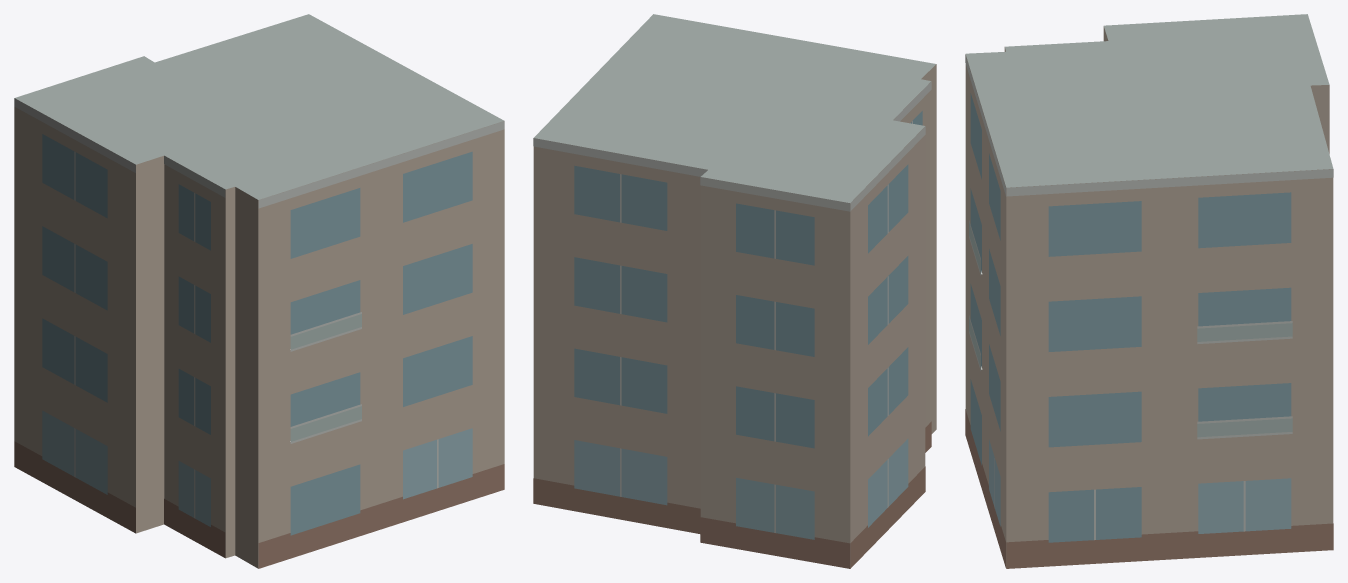
Rendered from survey-upis-32533121.glb.
3 renders of one model, left to right at view 1: azimuth 30°, elevation 25°; view 2: azimuth 150°, elevation 25°; view 3: azimuth 270°, elevation 25°, orthographic. The views are drawn at different scales.
Visible parts, largest first — view 1: survey-upis-32533121.tmp; view 2: survey-upis-32533121.tmp; view 3: survey-upis-32533121.tmp.
Part boxes in pixels (box(x1,y1,x2,y2)): survey-upis-32533121.tmp: box(14, 14, 504, 568); survey-upis-32533121.tmp: box(533, 14, 936, 568); survey-upis-32533121.tmp: box(965, 14, 1333, 568).
Size of the model in its own units: 10.27 by 10.5 by 9.2.
